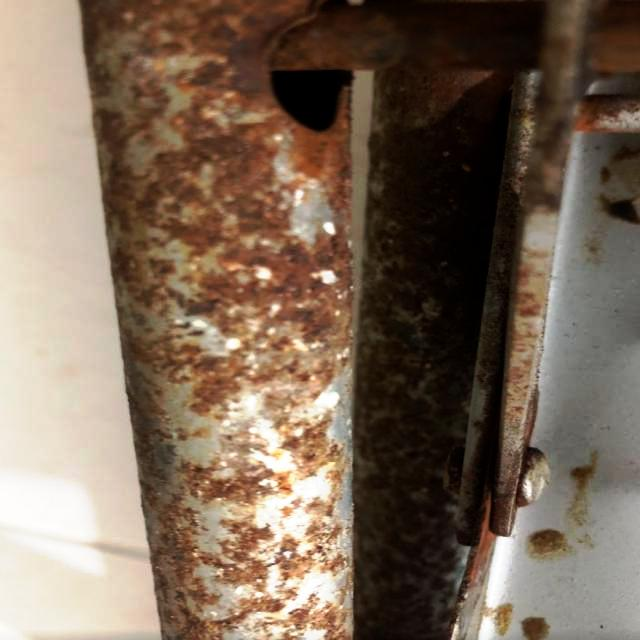Corrosion: (75, 0, 640, 640)
